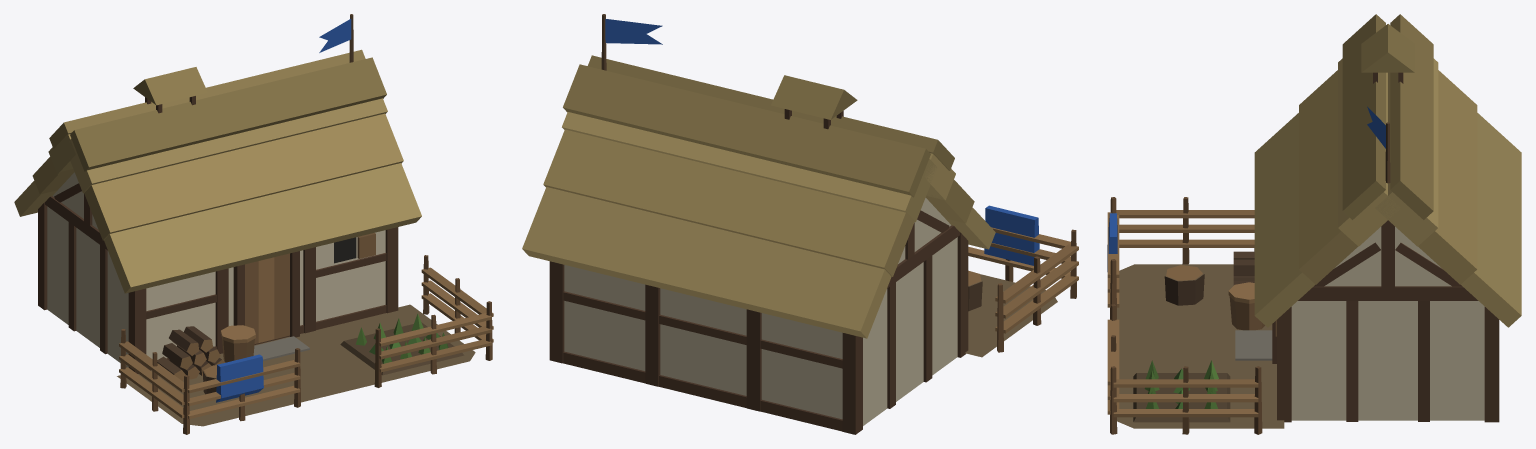
File: house.glb
The picture shows the model from 3 angles, left to right: view 1: azimuth 30°, elevation 25°; view 2: azimuth 150°, elevation 25°; view 3: azimuth 270°, elevation 25°; orthographic projection. The views are drawn at different scales.
Visible parts, largest first — view 1: house; view 2: house; view 3: house.
Part boxes in pixels (x1,y1,x2,y2): house: [14, 14, 493, 434]; house: [522, 14, 1078, 434]; house: [1107, 14, 1521, 434].
Bounding box in the file's own units: 5.56 × 4.47 × 5.59.
